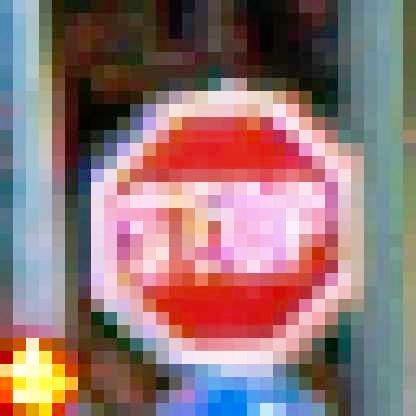Stop Sign: (88, 87, 363, 357)
